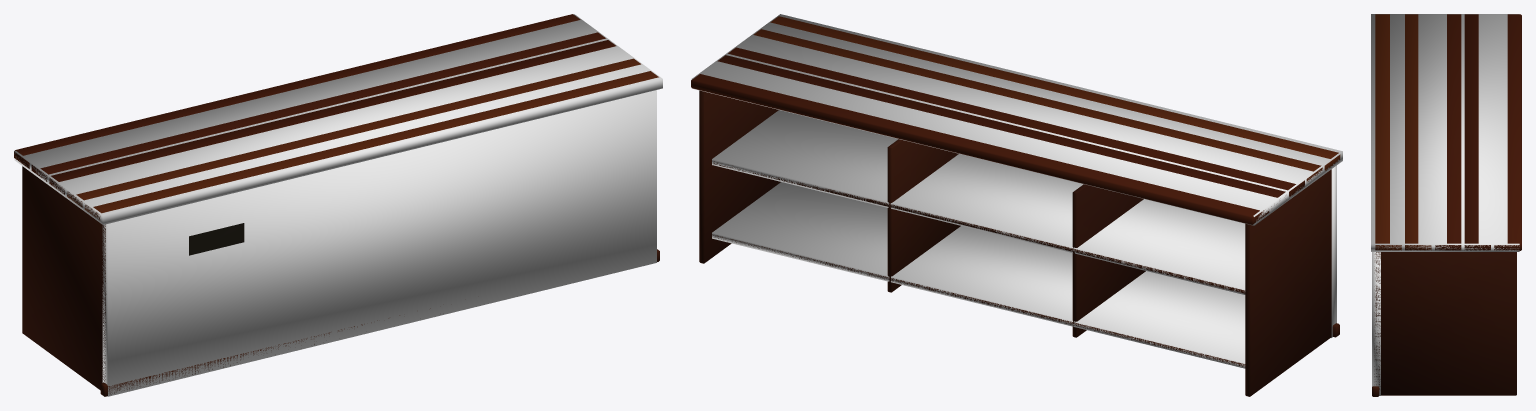
Rendered from consigna_mostrador.glb.
3 renders of one model, left to right at view 1: azimuth 30°, elevation 25°; view 2: azimuth 150°, elevation 25°; view 3: azimuth 270°, elevation 25°, orthographic. The views are drawn at different scales.
Visible parts, largest first — view 1: frente-colcaja, mostrador, tablero-colcaja; view 2: mostrador, balda_0-colcaja, balda_1-colcaja, tablero-colcaja, frente-colcaja; view 3: mostrador, tablero-colcaja, frente-colcaja.
Part boxes in pixels (x1,y1,x2,y2): frente-colcaja: (102, 90, 656, 396); mostrador: (14, 14, 659, 396); tablero-colcaja: (14, 14, 662, 224); mostrador: (691, 16, 1340, 396); balda_0-colcaja: (712, 182, 1245, 368); balda_1-colcaja: (712, 110, 1245, 294); tablero-colcaja: (691, 14, 1342, 225); frente-colcaja: (1331, 165, 1336, 337); mostrador: (1372, 14, 1521, 396); tablero-colcaja: (1371, 14, 1519, 251); frente-colcaja: (1372, 252, 1380, 395).
Bounding box in the file's own units: 3.04 × 0.9502 × 0.8421.
